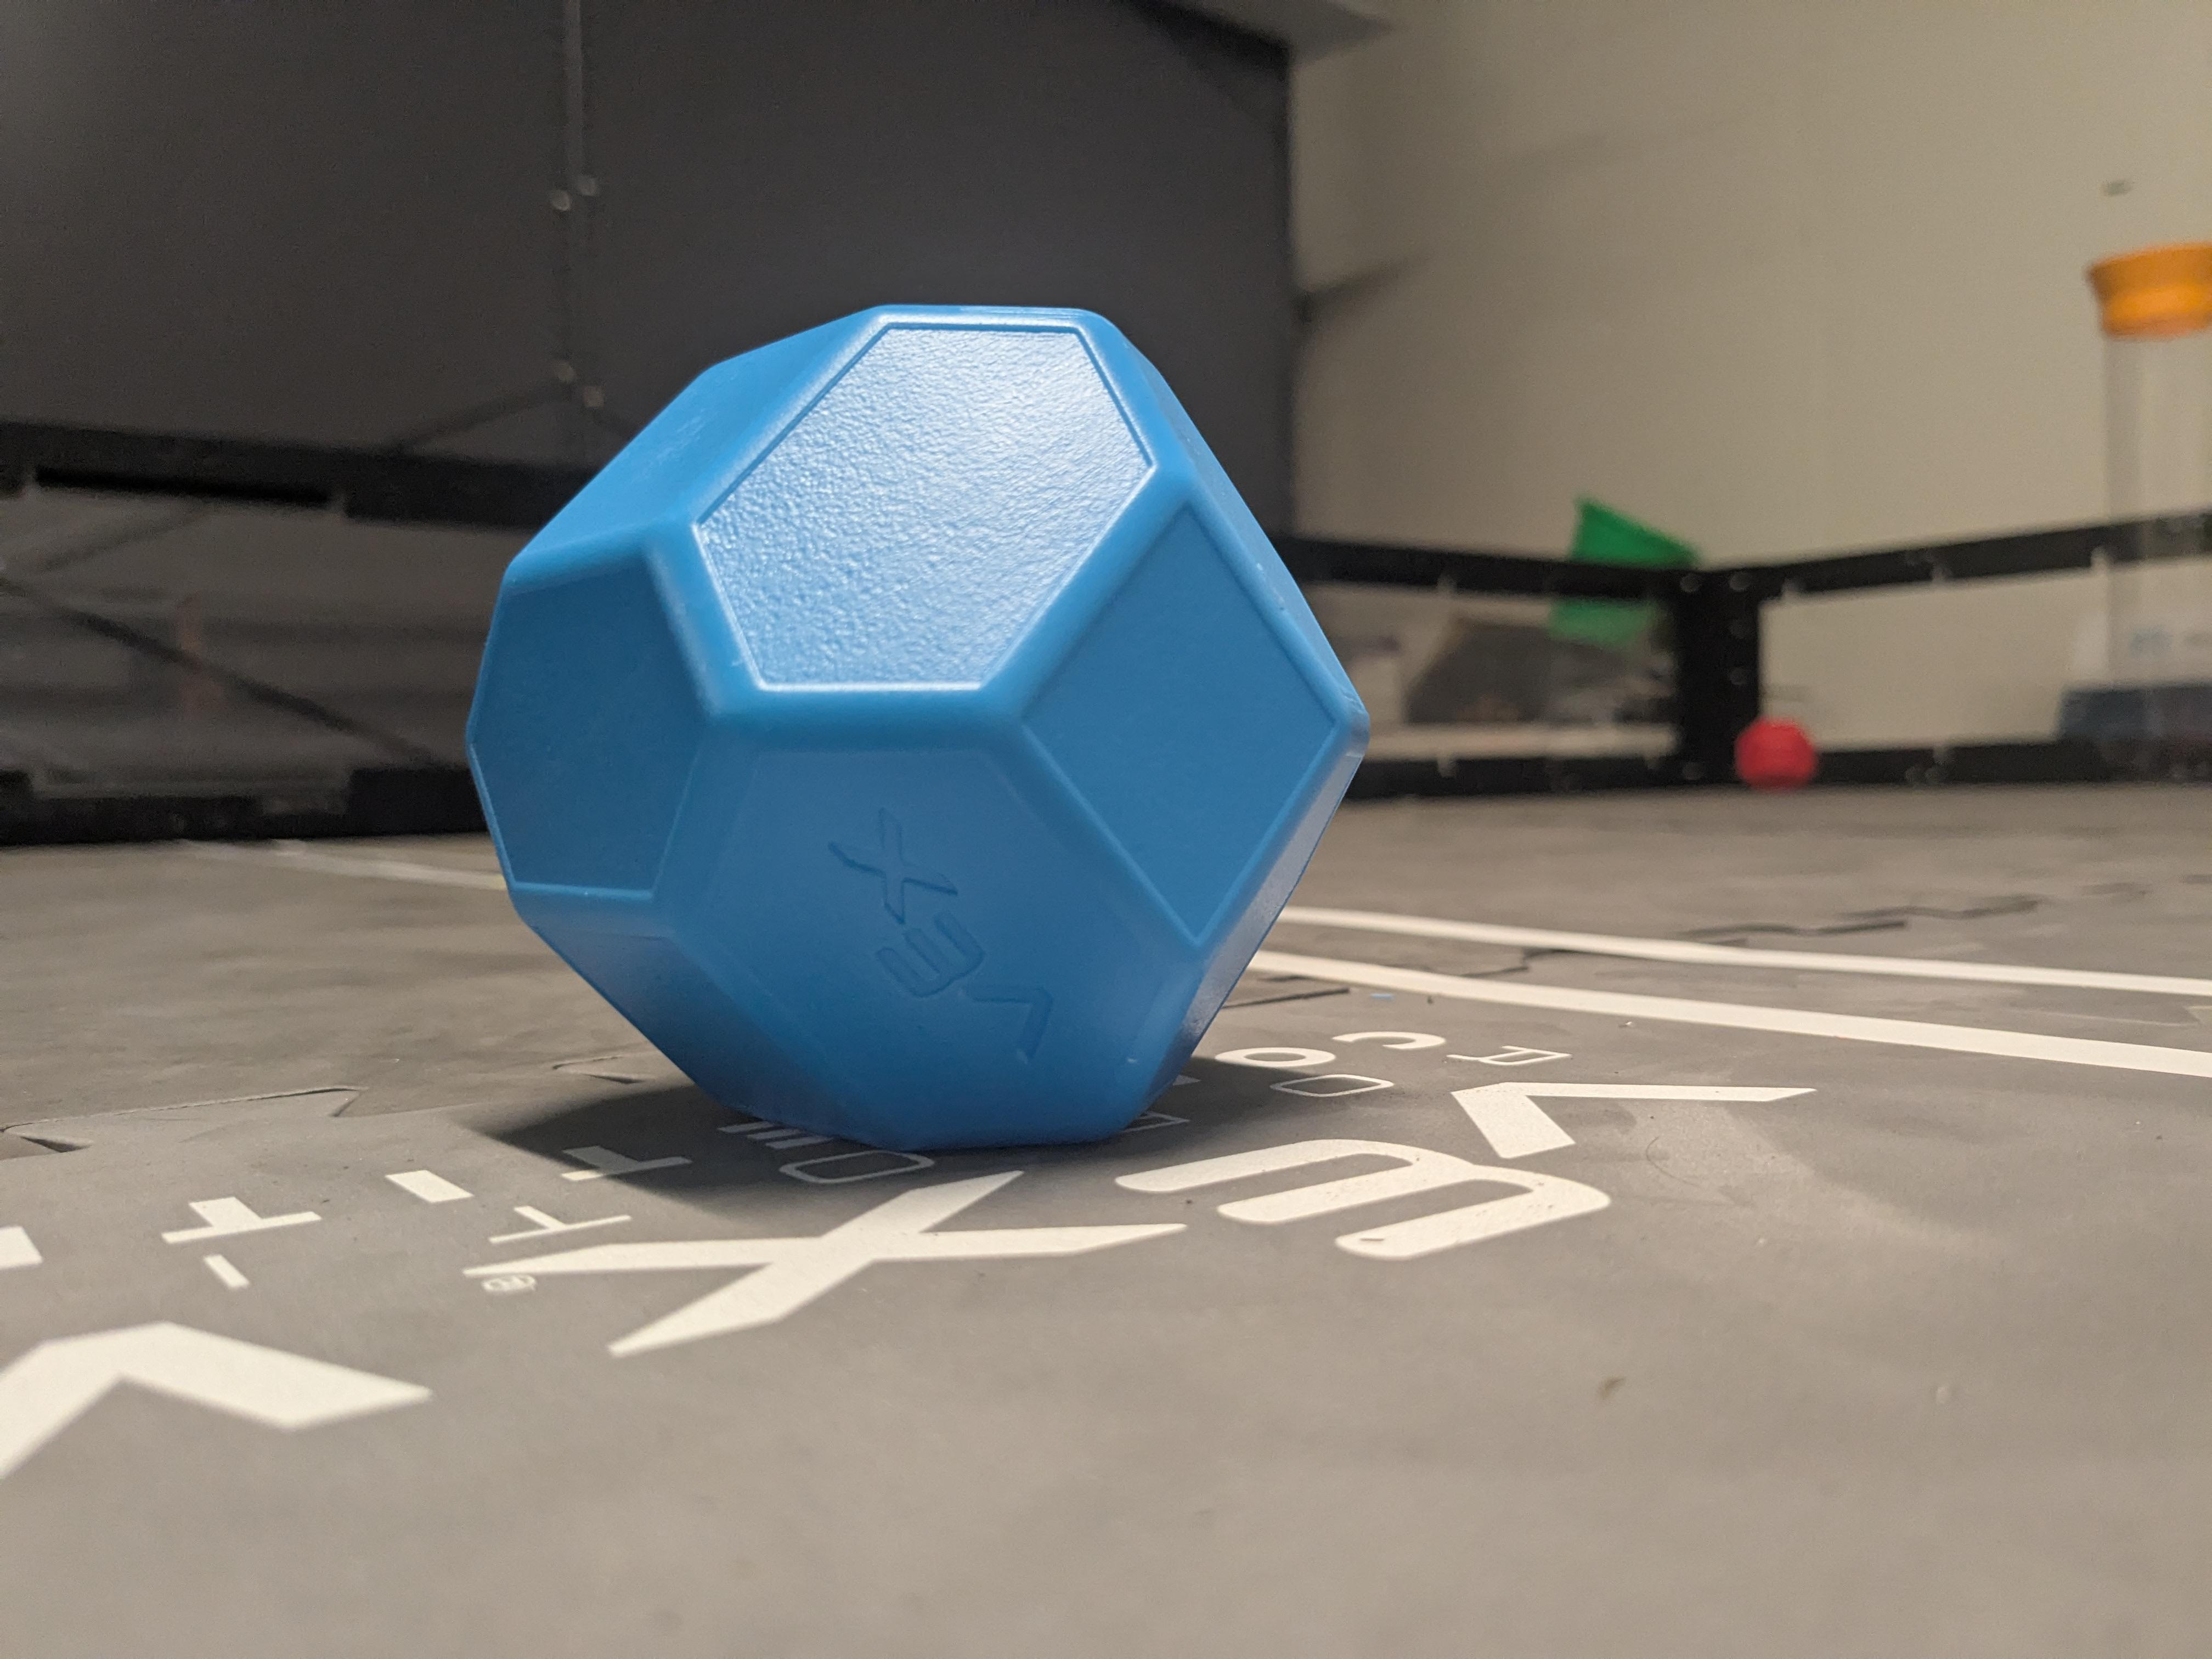Vex-Pieces-BLUE: (455, 312, 1372, 1180)
